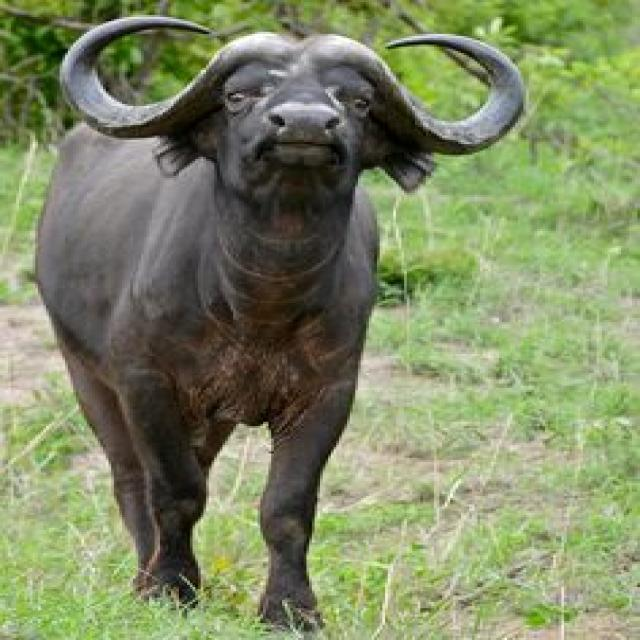buffalo: (8, 15, 524, 635)
